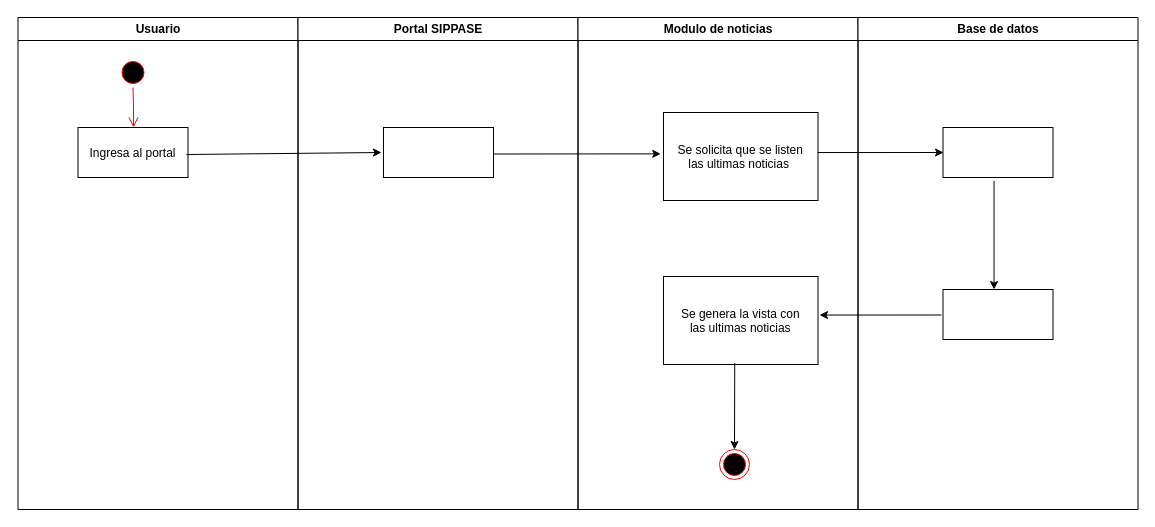
This 1155x527 diagram has some shape labels left out. Each missing label, with the centre of its shape:
"ingresa a la seccion de noticias" belongs at (438,152).
"Se consulta a la BD sobre noticias" belongs at (997,152).
"Se procesa y retorna los datos" belongs at (997,314).
